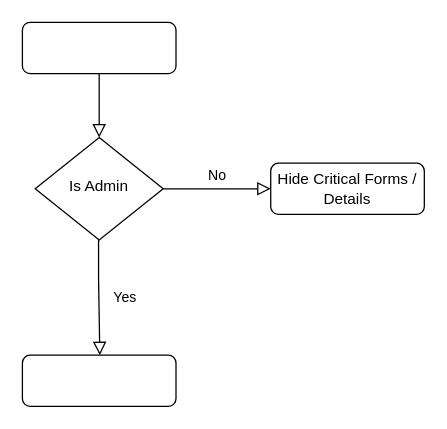
Some shapes in this 447 by 429 pixel diagram are drawn without their labels. Here are the shapes that lost their labels. From the top down, the centre of each, then its label:
At (x=98, y=47): "User Logs in".
At (x=98, y=380): "Fully Functional Database".
